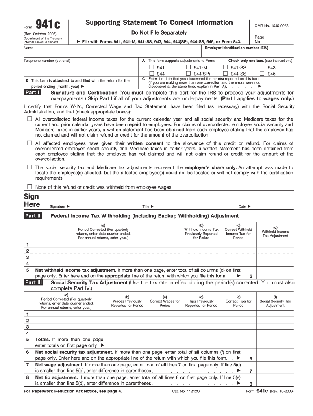checkbox: (147, 63, 155, 70), (147, 69, 155, 76), (184, 69, 192, 76), (184, 63, 192, 70), (221, 63, 229, 70), (221, 69, 229, 76), (258, 69, 265, 76), (258, 63, 265, 70), (26, 163, 33, 170), (25, 115, 33, 121), (26, 139, 33, 145), (26, 184, 33, 190)
textbox: (21, 55, 140, 78), (22, 43, 202, 58), (65, 188, 141, 211), (150, 188, 225, 211), (199, 43, 296, 58), (29, 239, 184, 248), (29, 245, 184, 254), (29, 252, 184, 261), (29, 258, 184, 267), (247, 188, 295, 211), (28, 315, 110, 325), (28, 327, 110, 337), (29, 308, 110, 318), (29, 321, 110, 331), (248, 31, 295, 46), (107, 334, 147, 350), (144, 334, 184, 350), (255, 334, 295, 350), (255, 359, 295, 375), (255, 372, 295, 388), (255, 264, 295, 280), (181, 334, 221, 349), (218, 334, 258, 349), (255, 347, 295, 362), (181, 238, 221, 248), (181, 245, 221, 255), (181, 251, 221, 261), (218, 245, 258, 255), (218, 239, 258, 249), (107, 315, 147, 325), (107, 321, 147, 331), (107, 327, 147, 337), (144, 327, 184, 337), (181, 315, 221, 325), (181, 327, 221, 337), (218, 327, 258, 337), (218, 315, 258, 325), (255, 315, 295, 325), (255, 321, 295, 331), (256, 245, 295, 255), (145, 321, 184, 331), (182, 321, 221, 331), (181, 258, 221, 267), (218, 258, 258, 267), (218, 252, 258, 261), (255, 239, 295, 248), (255, 252, 295, 261), (255, 258, 295, 267), (107, 309, 147, 318), (144, 309, 184, 318), (181, 309, 221, 318), (218, 321, 258, 330), (218, 308, 258, 317), (255, 309, 295, 318), (255, 328, 295, 337), (145, 315, 184, 324)
textline: (80, 82, 137, 90), (256, 84, 295, 91)
